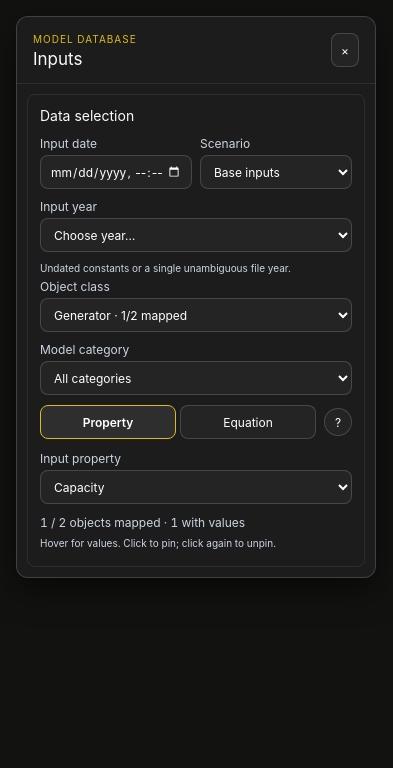
Test: equation help is hidden until the question mark is clicked and closes with Escape
The image size is (393, 768).
Expected: the text "1 / 2 objects mapped · 1 with values" is shown, [40, 515, 245, 530]
Expected: the text "Use [properties], numbers" is not shown
Click the button "Equation" at [248, 422], box [180, 405, 316, 439]
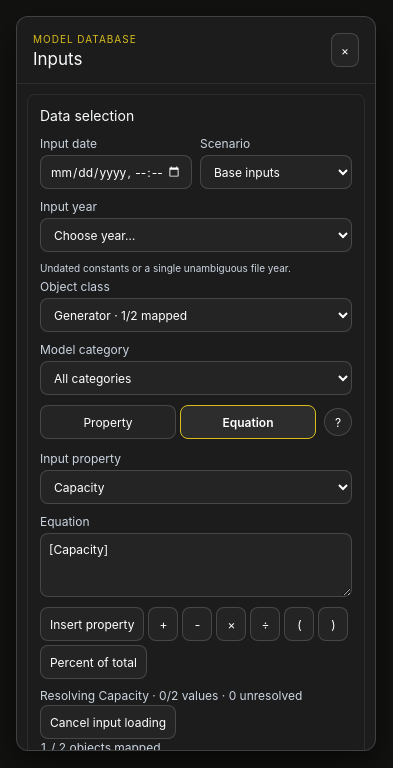
Expected: the text "Use [properties], numbers" is not shown
Click the button named "About input equations" at [338, 422], box [324, 408, 352, 436]
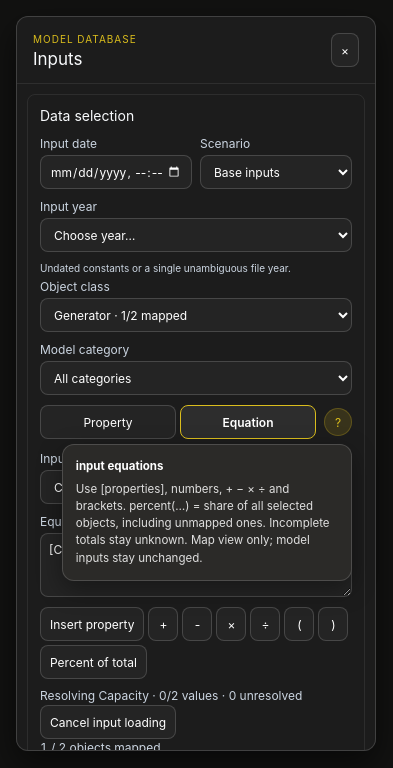
Expected: the element named "About input equations" shows "Incomplete totals stay unknown.", [76, 482, 330, 565]
Expected: the button named "About input equations" is expanded, [324, 408, 352, 436]
Press Escape
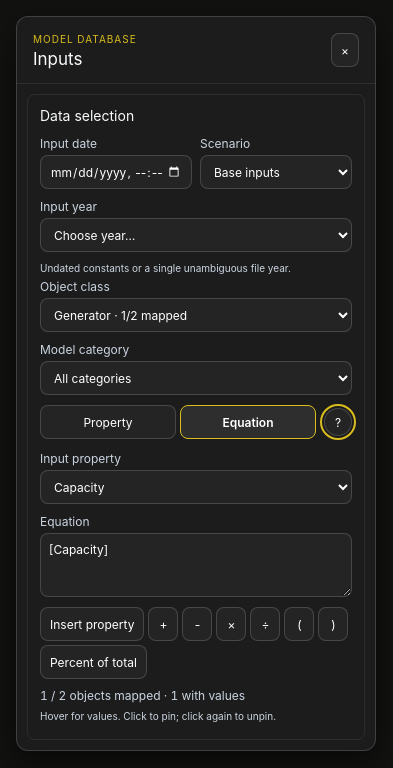
Expected: the text "Use [properties], numbers" is gone
